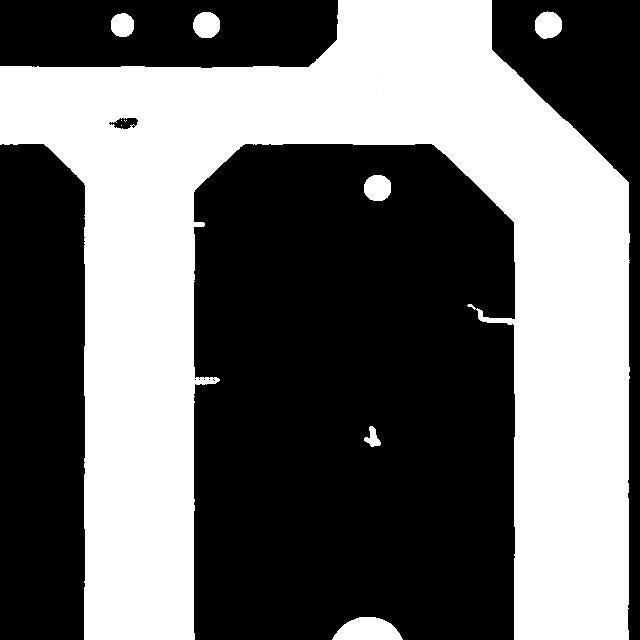copper: (99, 108, 147, 138)
mousebite: (457, 294, 524, 334), (174, 367, 229, 394), (182, 212, 214, 236)
pin-hole: (354, 416, 390, 456)
